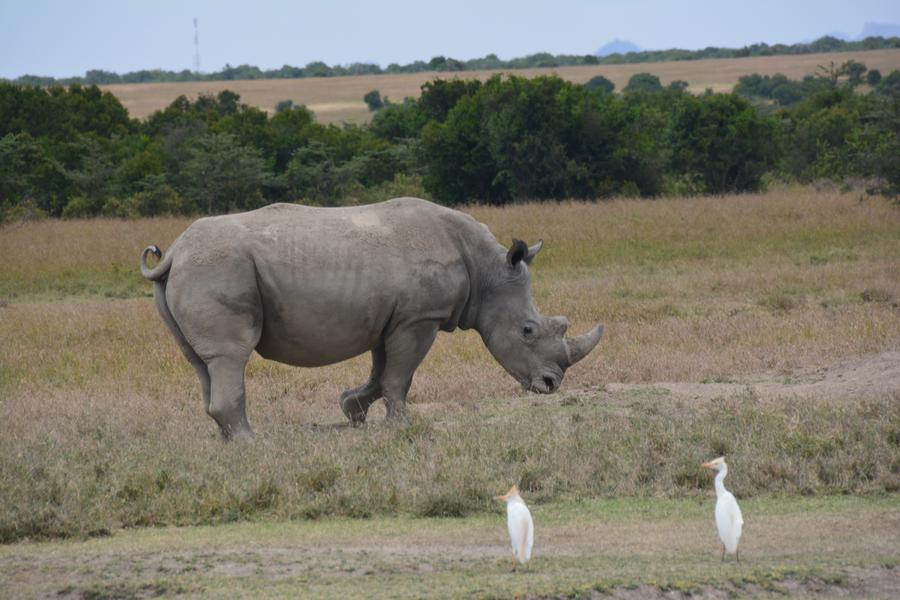rhino: (151, 194, 575, 444)
